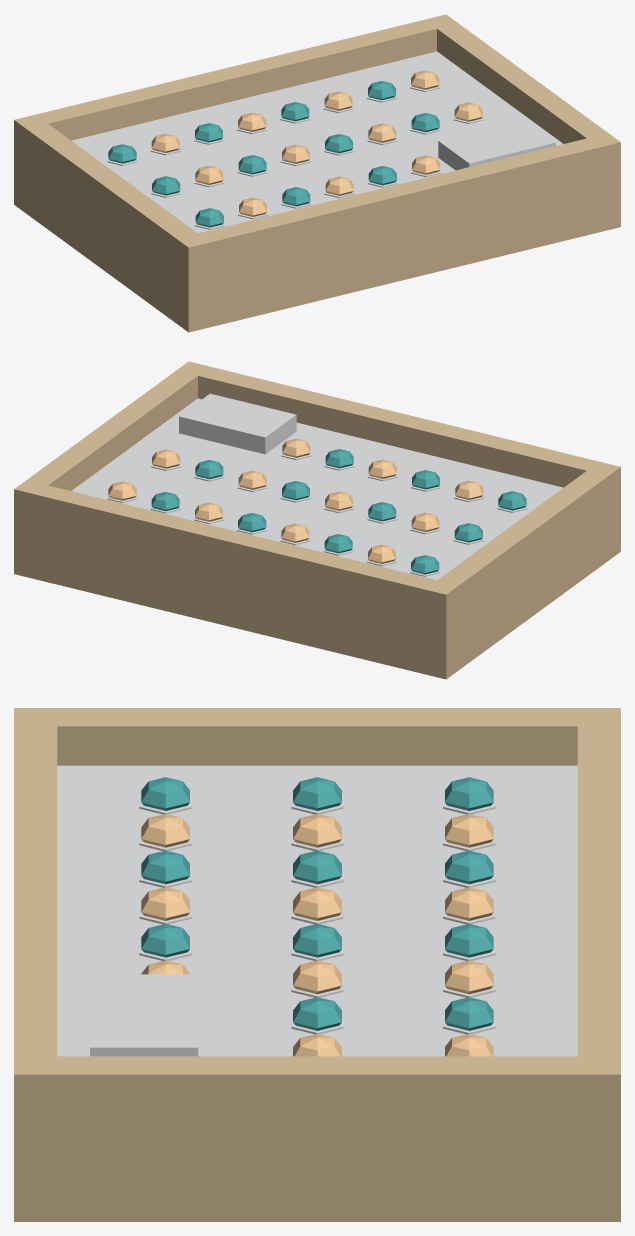
The model's file is chocolate-and-confectionery-factory-gummy-starch-tray-7765194f__36780.glb.
3 views of the same model, one above another, from view 1: azimuth 30°, elevation 25°; view 2: azimuth 150°, elevation 25°; view 3: azimuth 270°, elevation 25° (orthographic). The views are drawn at different scales.
Parts seen in each view (by area): view 1: gummy-starch-tray; view 2: gummy-starch-tray; view 3: gummy-starch-tray.
Boxes of the visible parts, left/top/right/bottom form: gummy-starch-tray: left=14, top=14, right=620, bottom=332; gummy-starch-tray: left=14, top=361, right=620, bottom=679; gummy-starch-tray: left=14, top=708, right=620, bottom=1221.
Bounding box in the file's own units: 0.8 × 0.15 × 0.56.
